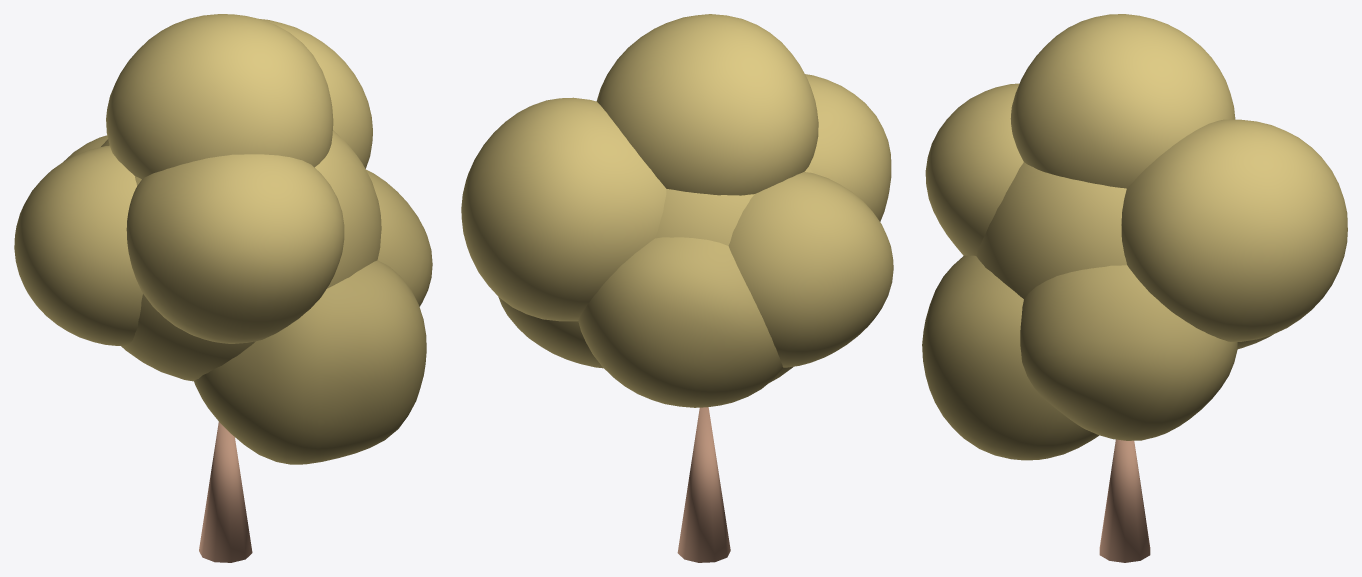
The model's file is tree_b_autumn.glb.
3 renders of one model, left to right at view 1: azimuth 30°, elevation 25°; view 2: azimuth 150°, elevation 25°; view 3: azimuth 270°, elevation 25°, orthographic.
Visible parts, largest first — view 1: crown, trunk; view 2: crown, trunk; view 3: crown, trunk.
Boxes of the visible parts, x1,y1,x2,y2 form: crown: [14, 14, 432, 464]; trunk: [199, 421, 252, 562]; crown: [461, 14, 893, 407]; trunk: [677, 407, 730, 562]; crown: [922, 14, 1347, 460]; trunk: [1099, 439, 1150, 562].
Bounding box in the file's own units: 5.88 × 7.87 × 5.79.
